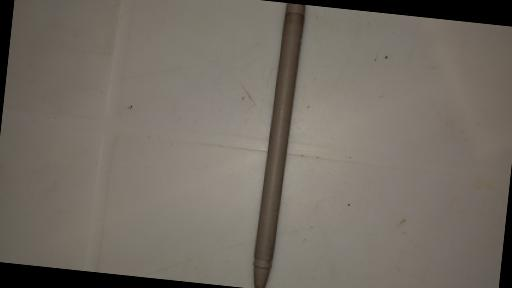pen: (249, 2, 306, 288)
